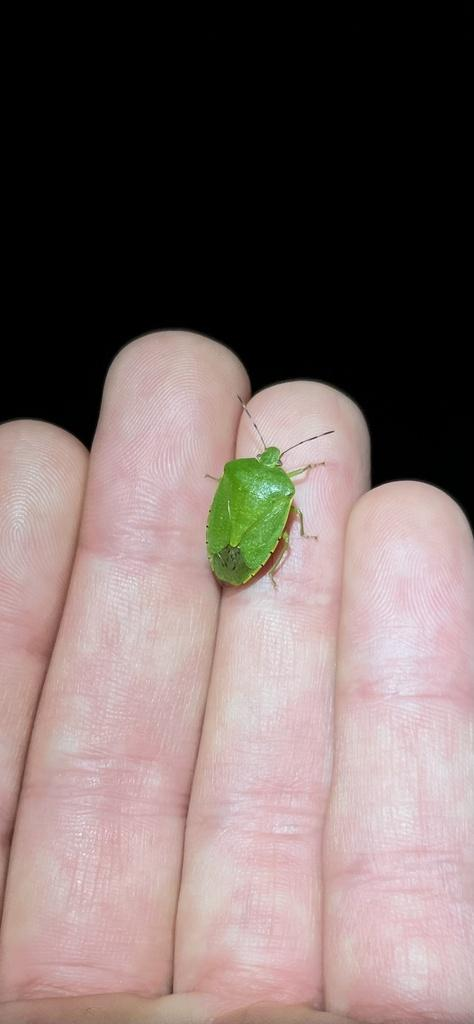stink_bugs: (160, 362, 355, 640)
